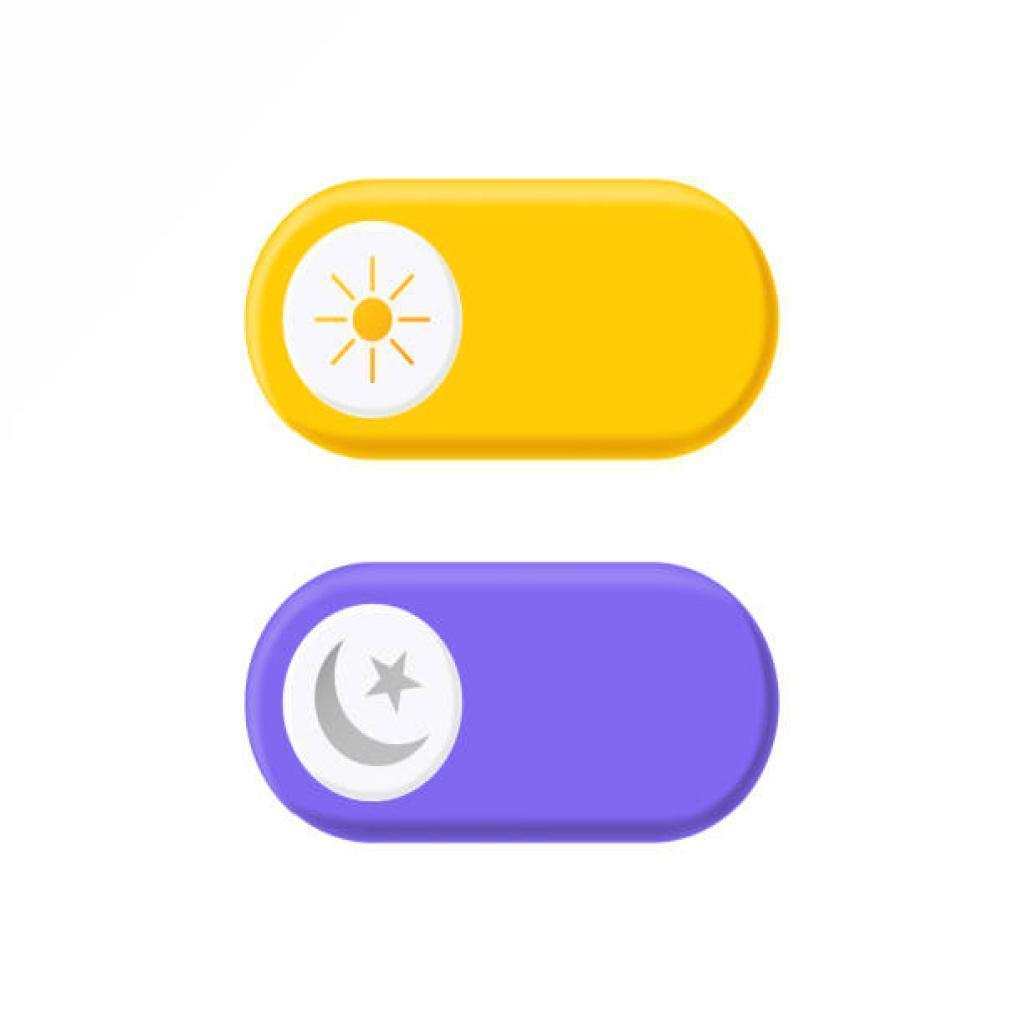switch: (245, 566, 787, 838), (248, 182, 778, 455)
